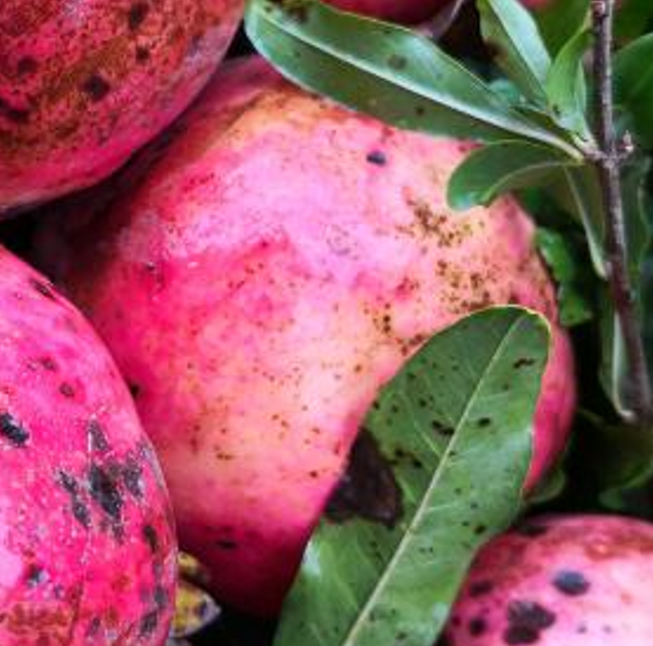pomegranate_B: (23, 52, 576, 617)
